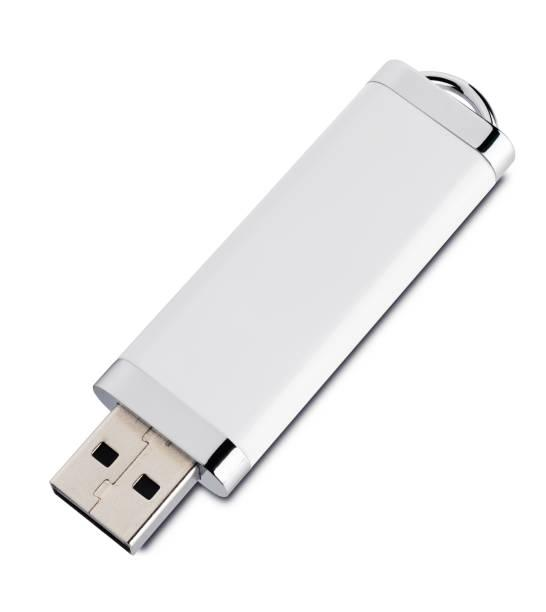USB Flash Drive: (49, 59, 516, 556)
